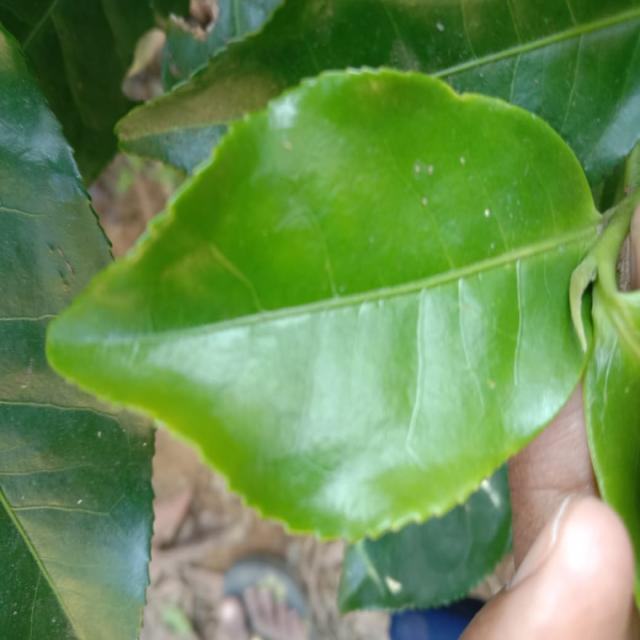Category B 2-4 days: (36, 49, 612, 550)
